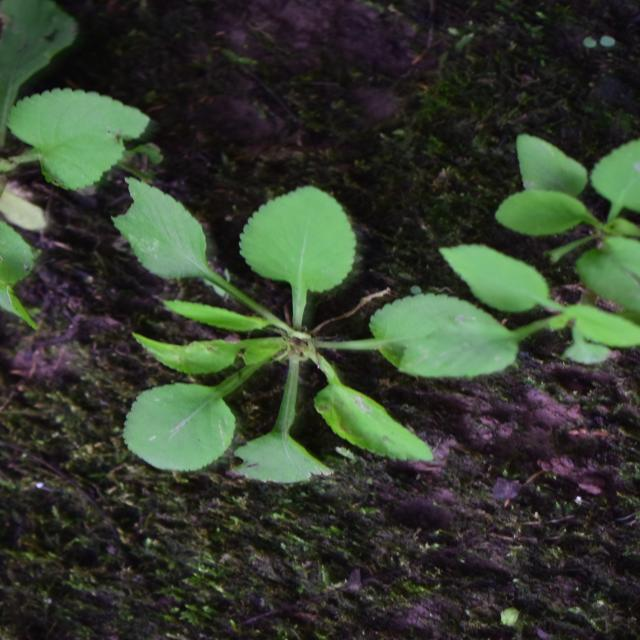Viola: (135, 110, 490, 480)
